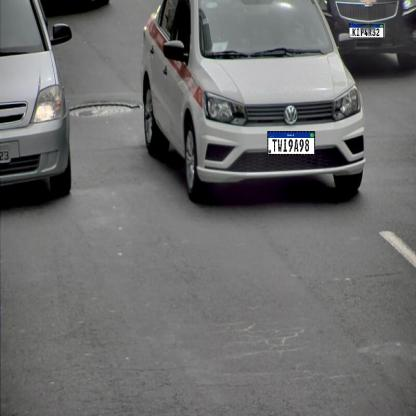PlacaM: (267, 131, 315, 155), (349, 24, 384, 38)
